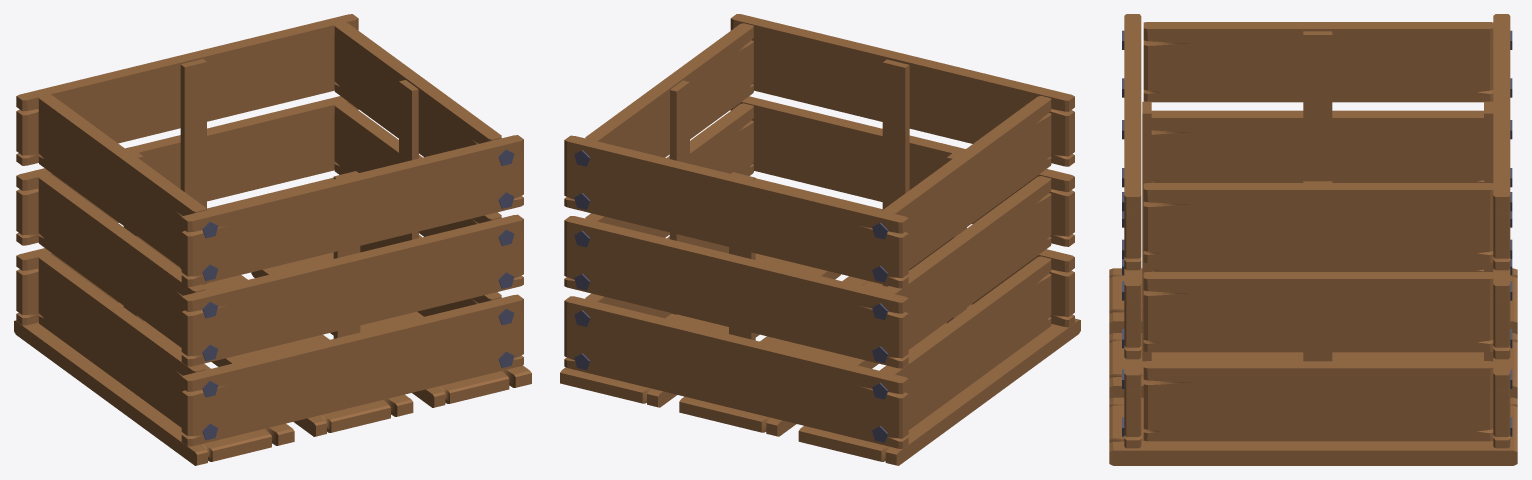
The model's file is WoodenCrate.fbx.
3 renders of one model, left to right at view 1: azimuth 30°, elevation 25°; view 2: azimuth 150°, elevation 25°; view 3: azimuth 270°, elevation 25°, orthographic. The views are drawn at different scales.
Parts seen in each view (by area): view 1: WoodenCrate; view 2: WoodenCrate; view 3: WoodenCrate.
Part boxes in pixels (x1=…): WoodenCrate: x1=14, y1=14, x2=531, y2=465; WoodenCrate: x1=560, y1=14, x2=1080, y2=465; WoodenCrate: x1=1109, y1=14, x2=1517, y2=465.
Size of the model in its own units: 127 by 86.67 by 119.
